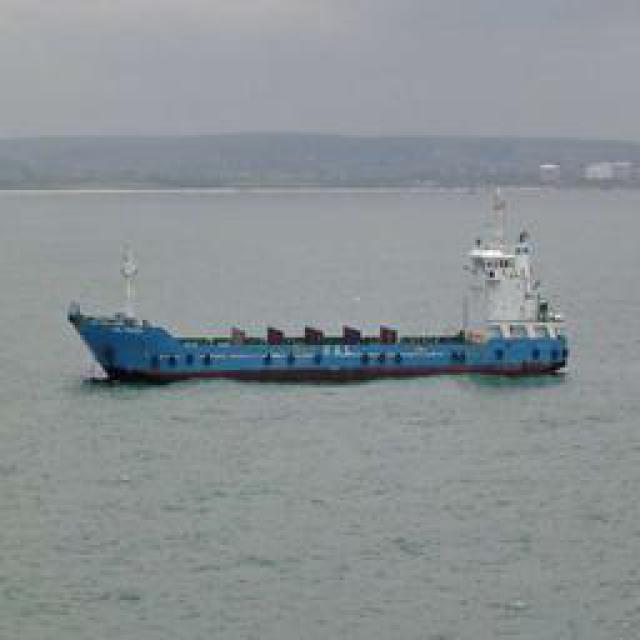Ship: (75, 216, 570, 386)
